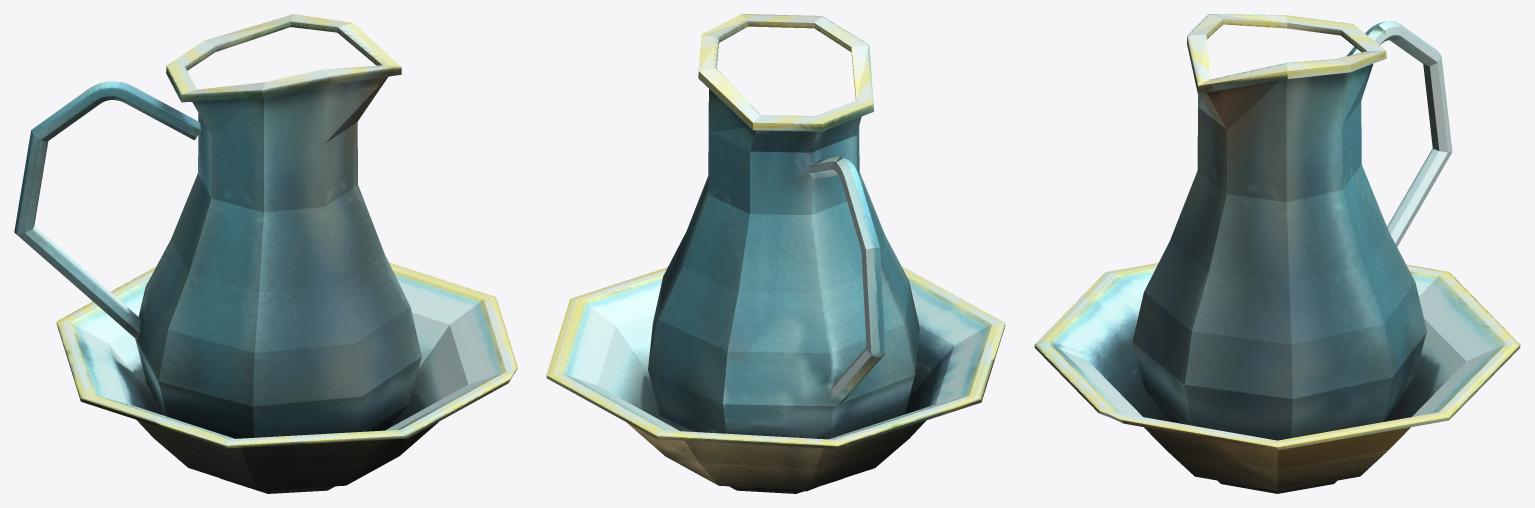
File: tableitem1.glb
The picture shows the model from 3 angles, left to right: view 1: azimuth 30°, elevation 25°; view 2: azimuth 150°, elevation 25°; view 3: azimuth 270°, elevation 25°; orthographic projection. The views are drawn at different scales.
Bounding box in the file's own units: 0.3345 × 0.3219 × 0.3346.
1 material, 1 textured.
